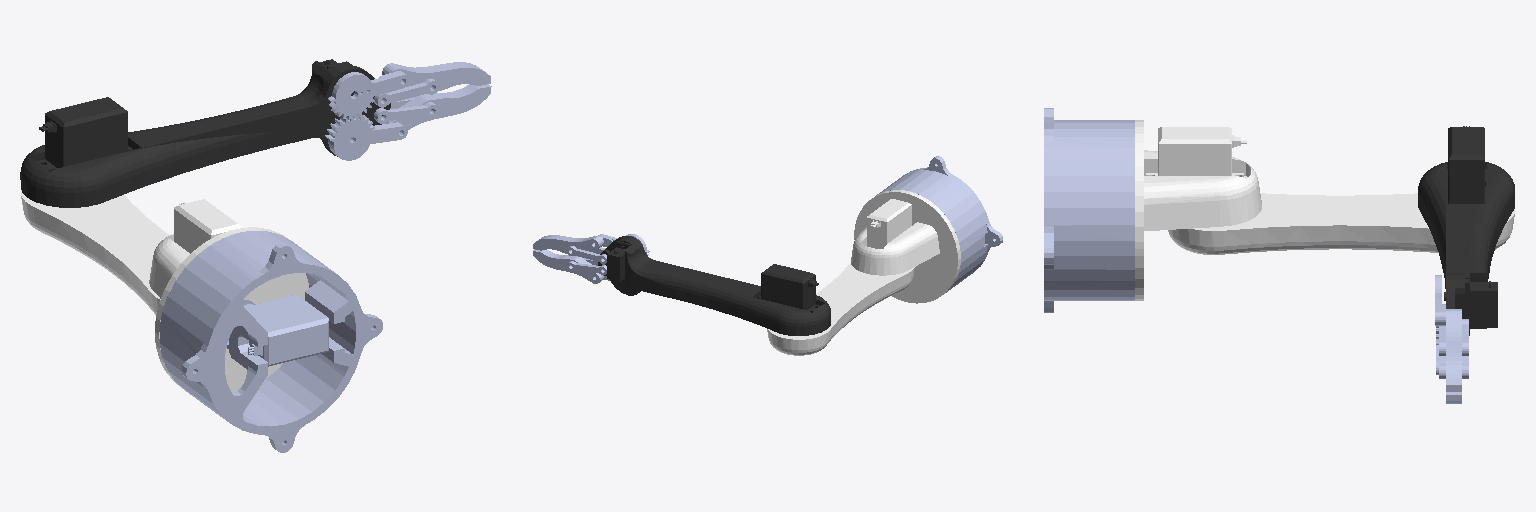
robot.urdf — robot_arm_urdf:
<?xml version="1.0" encoding="utf-8"?>
<!-- This URDF was automatically created by SolidWorks to URDF Exporter! Originally created by [author] ([email redacted]) 
     Commit Version: 1.6.0-4-g7f85cfe  Build Version: 1.6.7995.38578
     For more information, please see http://wiki.ros.org/sw_urdf_exporter -->
<robot
  name="robot_arm_urdf">
  <link
    name="base_link">
    <inertial>
      <origin
        xyz="0.0032394 0.022567 -4.5383E-10"
        rpy="0 0 0" />
      <mass
        value="1.22787" />
      <inertia
        ixx="0.00011996"
        ixy="-1.0737E-06"
        ixz="-4.1525E-14"
        iyy="0.00020378"
        iyz="4.5573E-13"
        izz="0.000134" />
    </inertial>
    <visual>
      <origin
        xyz="0 0 0"
        rpy="0 0 0" />
      <geometry>
        <mesh
          filename="package://robot_arm_urdf/meshes/base_link.STL" />
      </geometry>
      <material
        name="">
        <color
          rgba="0.79216 0.81961 0.93333 1" />
      </material>
    </visual>
    <collision>
      <origin
        xyz="0 0 0"
        rpy="0 0 0" />
      <geometry>
        <mesh
          filename="package://robot_arm_urdf/meshes/base_link.STL" />
      </geometry>
    </collision>
  </link>
  <link
    name="rotating_Link">
    <inertial>
      <origin
        xyz="-0.0125350268571904 0.0233608533773388 7.50059833673825E-08"
        rpy="0 0 0" />
      <mass
        value="0.123597949087119" />
      <inertia
        ixx="8.32891212084354E-05"
        ixy="7.68878516719148E-06"
        ixz="2.77787381114411E-10"
        iyy="7.65400668372014E-05"
        iyz="-6.67658494977892E-11"
        izz="7.65101106376672E-05" />
    </inertial>
    <visual>
      <origin
        xyz="0 0 0"
        rpy="0 0 0" />
      <geometry>
        <mesh
          filename="package://robot_arm_urdf/meshes/rotating_Link.STL" />
      </geometry>
      <material
        name="">
        <color
          rgba="1 1 1 1" />
      </material>
    </visual>
    <collision>
      <origin
        xyz="0 0 0"
        rpy="0 0 0" />
      <geometry>
        <mesh
          filename="package://robot_arm_urdf/meshes/rotating_Link.STL" />
      </geometry>
    </collision>
  </link>
  <joint
    name="rotating_joint"
    type="revolute">
    <origin
      xyz="0 0.05 0"
      rpy="0 1.5708 0" />
    <parent
      link="base_link" />
    <child
      link="rotating_Link" />
    <axis
      xyz="0 0 0" />
    <limit
      lower="-1.57"
      upper="1.57"
      effort="0.1"
      velocity="0.2" />
  </joint>
  <link
    name="upperarm_Link">
    <inertial>
      <origin
        xyz="5.5511E-17 0.0079569 2.187E-16"
        rpy="0 0 0" />
      <mass
        value="0.12015" />
      <inertia
        ixx="2.3791E-05"
        ixy="2.846E-19"
        ixz="1.2636E-12"
        iyy="0.00039487"
        iyz="1.7927E-21"
        izz="0.00037741" />
    </inertial>
    <visual>
      <origin
        xyz="0 0 0"
        rpy="0 0 0" />
      <geometry>
        <mesh
          filename="package://robot_arm_urdf/meshes/upperarm_Link.STL" />
      </geometry>
      <material
        name="">
        <color
          rgba="1 1 1 1" />
      </material>
    </visual>
    <collision>
      <origin
        xyz="0 0 0"
        rpy="0 0 0" />
      <geometry>
        <mesh
          filename="package://robot_arm_urdf/meshes/upperarm_Link.STL" />
      </geometry>
    </collision>
  </link>
  <joint
    name="shoulder_joint"
    type="revolute">
    <origin
      xyz="0 0.11355 0"
      rpy="-3.1416 0 1.5708" />
    <parent
      link="rotating_Link" />
    <child
      link="upperarm_Link" />
    <axis
      xyz="0 0 0" />
    <limit
      lower="-1.57"
      upper="1.57"
      effort="0.1"
      velocity="0.2" />
  </joint>
  <link
    name="forearm_Link">
    <inertial>
      <origin
        xyz="0.050967 0.031378 -0.00031477"
        rpy="0 0 0" />
      <mass
        value="0.14762" />
      <inertia
        ixx="2.3289E-05"
        ixy="5.374E-06"
        ixz="6.3077E-06"
        iyy="0.0004054"
        iyz="-8.1891E-08"
        izz="0.00040129" />
    </inertial>
    <visual>
      <origin
        xyz="0 0 0"
        rpy="0 0 0" />
      <geometry>
        <mesh
          filename="package://robot_arm_urdf/meshes/forearm_Link.STL" />
      </geometry>
      <material
        name="">
        <color
          rgba="0.25098 0.25098 0.25098 1" />
      </material>
    </visual>
    <collision>
      <origin
        xyz="0 0 0"
        rpy="0 0 0" />
      <geometry>
        <mesh
          filename="package://robot_arm_urdf/meshes/forearm_Link.STL" />
      </geometry>
    </collision>
  </link>
  <joint
    name="arms_joint"
    type="revolute">
    <origin
      xyz="0.07 -0.0474 -0.01025"
      rpy="0 1.5708 0" />
    <parent
      link="upperarm_Link" />
    <child
      link="forearm_Link" />
    <axis
      xyz="0 0 0" />
    <limit
      lower="-1.57"
      upper="1.57"
      effort="0.1"
      velocity="0.2" />
  </joint>
  <link
    name="leftside_Link">
    <inertial>
      <origin
        xyz="0.0155 0.00825 5.175E-09"
        rpy="0 0 0" />
      <mass
        value="0.0015975" />
      <inertia
        ixx="7.265E-09"
        ixy="9.9301E-23"
        ixz="-2.3118E-14"
        iyy="2.0885E-07"
        iyz="1.8619E-25"
        izz="2.0584E-07" />
    </inertial>
    <visual>
      <origin
        xyz="0 0 0"
        rpy="0 0 0" />
      <geometry>
        <mesh
          filename="package://robot_arm_urdf/meshes/leftside_Link.STL" />
      </geometry>
      <material
        name="">
        <color
          rgba="0.79216 0.81961 0.93333 1" />
      </material>
    </visual>
    <collision>
      <origin
        xyz="0 0 0"
        rpy="0 0 0" />
      <geometry>
        <mesh
          filename="package://robot_arm_urdf/meshes/leftside_Link.STL" />
      </geometry>
    </collision>
  </link>
  <joint
    name="leftlink_joint"
    type="revolute">
    <origin
      xyz="0.17805 0.04015 0.0012817"
      rpy="-1.5708 0 0.1129" />
    <parent
      link="forearm_Link" />
    <child
      link="leftside_Link" />
    <axis
      xyz="0 0 0" />
    <limit
      lower="0"
      upper="1.57"
      effort="0"
      velocity="0" />
    <mimic
      joint="rightlink_joint"
      multiplier="1"
      offset="0" />
  </joint>
  <link
    name="rightside_link">
    <inertial>
      <origin
        xyz="0.0155 -0.00425 -4.2952E-15"
        rpy="0 0 0" />
      <mass
        value="0.0015975" />
      <inertia
        ixx="7.265E-09"
        ixy="2.2935E-22"
        ixz="1.8793E-23"
        iyy="2.0885E-07"
        iyz="-2.0142E-24"
        izz="2.0584E-07" />
    </inertial>
    <visual>
      <origin
        xyz="0 0 0"
        rpy="0 0 0" />
      <geometry>
        <mesh
          filename="package://robot_arm_urdf/meshes/rightside_link.STL" />
      </geometry>
      <material
        name="">
        <color
          rgba="0.79216 0.81961 0.93333 1" />
      </material>
    </visual>
    <collision>
      <origin
        xyz="0 0 0"
        rpy="0 0 0" />
      <geometry>
        <mesh
          filename="package://robot_arm_urdf/meshes/rightside_link.STL" />
      </geometry>
    </collision>
  </link>
  <joint
    name="rightlink_joint"
    type="revolute">
    <origin
      xyz="0.17805 0.03015 -0.011218"
      rpy="-1.5708 0 -0.017804" />
    <parent
      link="forearm_Link" />
    <child
      link="rightside_link" />
    <axis
      xyz="0 0 0" />
    <limit
      lower="0"
      upper="0"
      effort="0"
      velocity="0" />
  </joint>
  <link
    name="rightgear_Link">
    <inertial>
      <origin
        xyz="-0.017371 0.0017437 0.00040231"
        rpy="0 0 0" />
      <mass
        value="0.0028245" />
      <inertia
        ixx="1.025E-07"
        ixy="-1.2936E-08"
        ixz="5.8922E-08"
        iyy="5.4141E-07"
        iyz="2.1041E-09"
        izz="4.4993E-07" />
    </inertial>
    <visual>
      <origin
        xyz="0 0 0"
        rpy="0 0 0" />
      <geometry>
        <mesh
          filename="package://robot_arm_urdf/meshes/rightgear_Link.STL" />
      </geometry>
      <material
        name="">
        <color
          rgba="0.79216 0.81961 0.93333 1" />
      </material>
    </visual>
    <collision>
      <origin
        xyz="0 0 0"
        rpy="0 0 0" />
      <geometry>
        <mesh
          filename="package://robot_arm_urdf/meshes/rightgear_Link.STL" />
      </geometry>
    </collision>
  </link>
  <joint
    name="rightgear_joint"
    type="revolute">
    <origin
      xyz="0.14835 0.020267 -0.013568"
      rpy="-1.5708 0 -3.0441" />
    <parent
      link="forearm_Link" />
    <child
      link="rightgear_Link" />
    <axis
      xyz="0 0 0" />
    <limit
      lower="0"
      upper="1.57"
      effort="0.1"
      velocity="0.5" />
  </joint>
  <link
    name="rightfinger_Link">
    <inertial>
      <origin
        xyz="0.00425 0.0095132 -0.03189"
        rpy="0 0 0" />
      <mass
        value="0.0053975" />
      <inertia
        ixx="1.7139E-06"
        ixy="1.2438E-11"
        ixz="6.4938E-12"
        iyy="1.5958E-06"
        iyz="3.7341E-07"
        izz="1.8308E-07" />
    </inertial>
    <visual>
      <origin
        xyz="0 0 0"
        rpy="0 0 0" />
      <geometry>
        <mesh
          filename="package://robot_arm_urdf/meshes/rightfinger_Link.STL" />
      </geometry>
      <material
        name="">
        <color
          rgba="0.79216 0.81961 0.93333 1" />
      </material>
    </visual>
    <collision>
      <origin
        xyz="0 0 0"
        rpy="0 0 0" />
      <geometry>
        <mesh
          filename="package://robot_arm_urdf/meshes/rightfinger_Link.STL" />
      </geometry>
    </collision>
  </link>
  <joint
    name="rightfinger_joint"
    type="revolute">
    <origin
      xyz="-0.034203 -0.01085 0.00098559"
      rpy="1.2279 0 1.5708" />
    <parent
      link="rightgear_Link" />
    <child
      link="rightfinger_Link" />
    <axis
      xyz="0 0 0" />
    <limit
      lower="0"
      upper="1.57"
      effort="0.1"
      velocity="0.2" />
  </joint>
  <link
    name="leftgear_Link">
    <inertial>
      <origin
        xyz="-0.0045276 0.001 -0.00060197"
        rpy="0 0 0" />
      <mass
        value="0.0039624" />
      <inertia
        ixx="1.4167E-07"
        ixy="-6.8068E-22"
        ixz="-1.3886E-08"
        iyy="6.7086E-07"
        iyz="1.1273E-23"
        izz="5.5296E-07" />
    </inertial>
    <visual>
      <origin
        xyz="0 0 0"
        rpy="0 0 0" />
      <geometry>
        <mesh
          filename="package://robot_arm_urdf/meshes/leftgear_Link.STL" />
      </geometry>
      <material
        name="">
        <color
          rgba="0.79216 0.81961 0.93333 1" />
      </material>
    </visual>
    <collision>
      <origin
        xyz="0 0 0"
        rpy="0 0 0" />
      <geometry>
        <mesh
          filename="package://robot_arm_urdf/meshes/leftgear_Link.STL" />
      </geometry>
    </collision>
  </link>
  <joint
    name="leftgear_joint"
    type="revolute">
    <origin
      xyz="0.16759 0.049104 -0.013218"
      rpy="-1.5708 0 0.09458" />
    <parent
      link="forearm_Link" />
    <child
      link="leftgear_Link" />
    <axis
      xyz="0 0 0" />
    <limit
      lower="0"
      upper="1.57"
      effort="0.1"
      velocity="0.2" />
    <mimic
      joint="rightgear_joint"
      multiplier="1"
      offset="0" />
  </joint>
  <link
    name="leftfinger_Link">
    <inertial>
      <origin
        xyz="0.00425 0.0095131 -0.03189"
        rpy="0 0 0" />
      <mass
        value="0.0053975" />
      <inertia
        ixx="1.7139E-06"
        ixy="1.244E-11"
        ixz="6.4983E-12"
        iyy="1.5958E-06"
        iyz="3.7341E-07"
        izz="1.8308E-07" />
    </inertial>
    <visual>
      <origin
        xyz="0 0 0"
        rpy="0 0 0" />
      <geometry>
        <mesh
          filename="package://robot_arm_urdf/meshes/leftfinger_Link.STL" />
      </geometry>
      <material
        name="">
        <color
          rgba="0.79216 0.81961 0.93333 1" />
      </material>
    </visual>
    <collision>
      <origin
        xyz="0 0 0"
        rpy="0 0 0" />
      <geometry>
        <mesh
          filename="package://robot_arm_urdf/meshes/leftfinger_Link.STL" />
      </geometry>
    </collision>
  </link>
  <joint
    name="leftfinger_joint"
    type="revolute">
    <origin
      xyz="0.013995 -0.002 -0.0024061"
      rpy="1.1326 0 -1.5708" />
    <parent
      link="leftgear_Link" />
    <child
      link="leftfinger_Link" />
    <axis
      xyz="0 0 0" />
    <limit
      lower="0"
      upper="1.57"
      effort="0.1"
      velocity="0.2" />
    <mimic
      joint="rightfinger_joint"
      multiplier="1"
      offset="0" />
  </joint>
</robot>

--- Render facts (derived) ---
3 views of the same robot in one strip: view 1: azimuth 30°, elevation 25°; view 2: azimuth 150°, elevation 25°; view 3: azimuth 270°, elevation 25° (orthographic).
Robot: robot_arm_urdf — 10 links, 9 joints (9 revolute); root link base_link; default pose: all joints at 0.
Links seen in each view (by area): view 1: base_link, forearm_Link, upperarm_Link, rotating_Link, rightgear_Link, leftgear_Link, rightfinger_Link, leftfinger_Link, leftside_Link, rightside_link; view 2: forearm_Link, rotating_Link, base_link, upperarm_Link, rightfinger_Link, leftfinger_Link; view 3: base_link, forearm_Link, rotating_Link, upperarm_Link, rightfinger_Link.
Link boxes in pixels (x1=…): base_link: x1=160, y1=231, x2=382, y2=452; forearm_Link: x1=20, y1=59, x2=390, y2=207; upperarm_Link: x1=21, y1=190, x2=169, y2=314; rotating_Link: x1=149, y1=199, x2=308, y2=391; rightgear_Link: x1=328, y1=71, x2=409, y2=119; leftgear_Link: x1=325, y1=115, x2=407, y2=160; rightfinger_Link: x1=382, y1=62, x2=490, y2=90; leftfinger_Link: x1=386, y1=84, x2=491, y2=129; leftside_Link: x1=374, y1=96, x2=438, y2=123; rightside_link: x1=374, y1=78, x2=438, y2=107; forearm_Link: x1=598, y1=236, x2=830, y2=335; rotating_Link: x1=851, y1=190, x2=960, y2=303; base_link: x1=876, y1=156, x2=1002, y2=292; upperarm_Link: x1=767, y1=263, x2=914, y2=355; rightfinger_Link: x1=533, y1=235, x2=603, y2=253; leftfinger_Link: x1=533, y1=249, x2=604, y2=283; base_link: x1=1044, y1=108, x2=1134, y2=312; forearm_Link: x1=1418, y1=126, x2=1514, y2=335; rotating_Link: x1=1135, y1=120, x2=1261, y2=300; upperarm_Link: x1=1168, y1=193, x2=1515, y2=254; rightfinger_Link: x1=1446, y1=309, x2=1461, y2=391.
Bounding box of the posed robot: 0.3203 × 0.2605 × 0.124 m (x, y, z).
10 mesh visuals loaded from 10 distinct referenced files (10 binary STL).